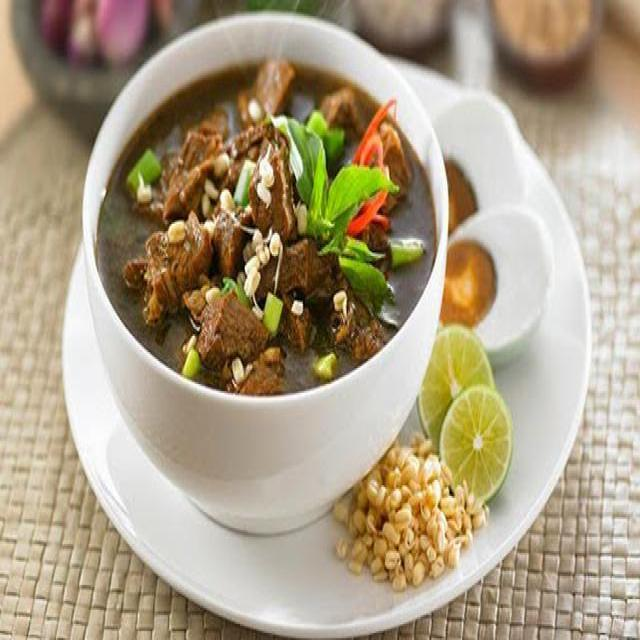Rawon: (106, 41, 428, 383)
